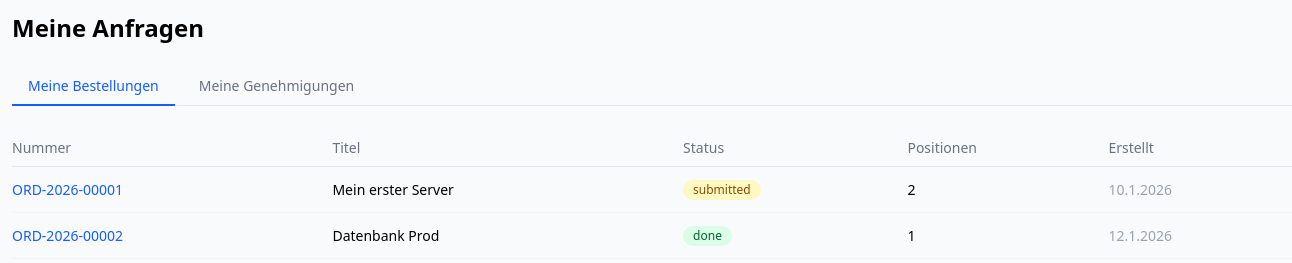
Test: MyRequests › switches to approvals tab and shows approval history
The image size is (1292, 263).
Click the button "Meine Genehmigungen": (276, 87) [183,68,370,106]
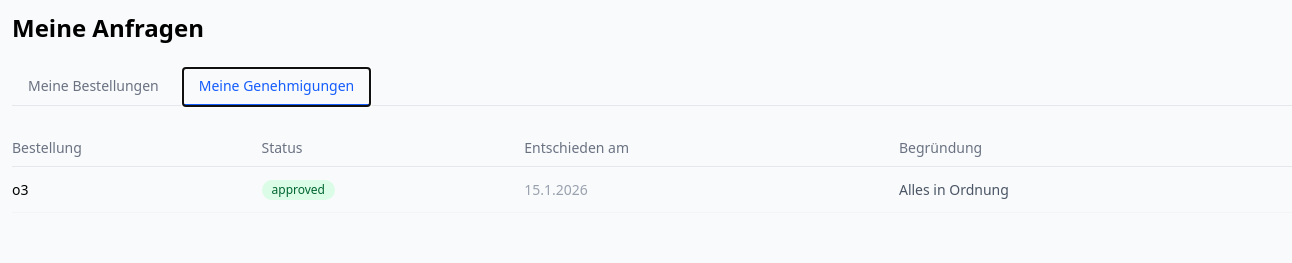
Check: the text "o3" is shown, box [12,166,262,212]
